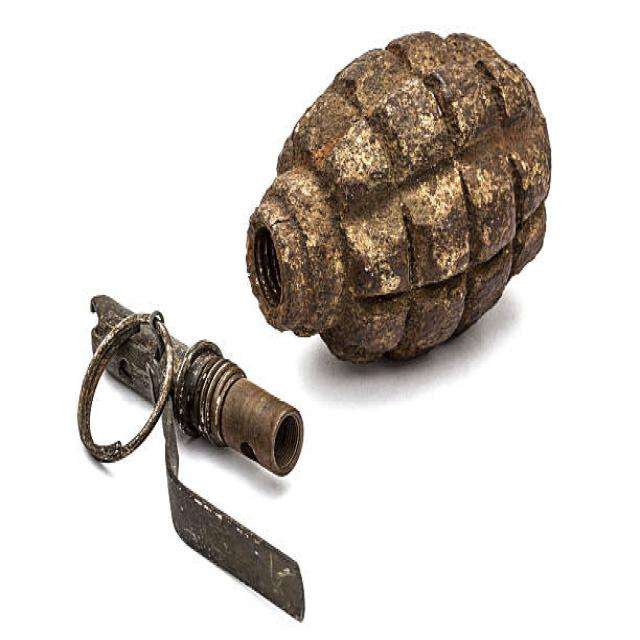grenade: (240, 24, 560, 382)
